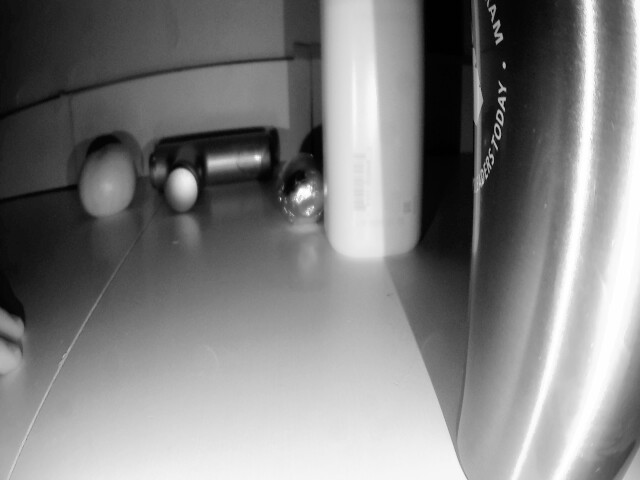silver: (277, 155, 328, 227)
